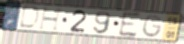2: (69, 9, 88, 34)
9: (92, 11, 112, 35)
D: (17, 4, 42, 31)
E: (117, 11, 143, 39)
G: (142, 14, 165, 39)
H: (37, 7, 66, 33)
